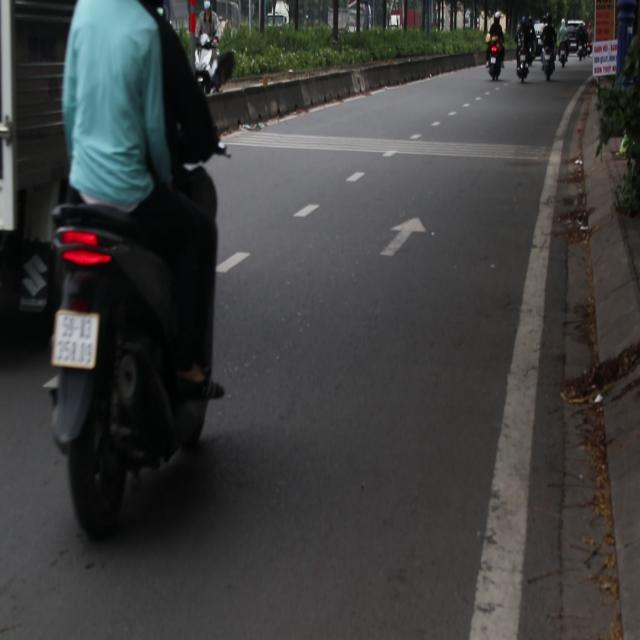car: (560, 14, 585, 55)
motorbike: (38, 233, 207, 547), (188, 33, 225, 95), (489, 43, 507, 81), (516, 45, 533, 84), (541, 45, 556, 82), (556, 38, 570, 67), (578, 40, 588, 56)
